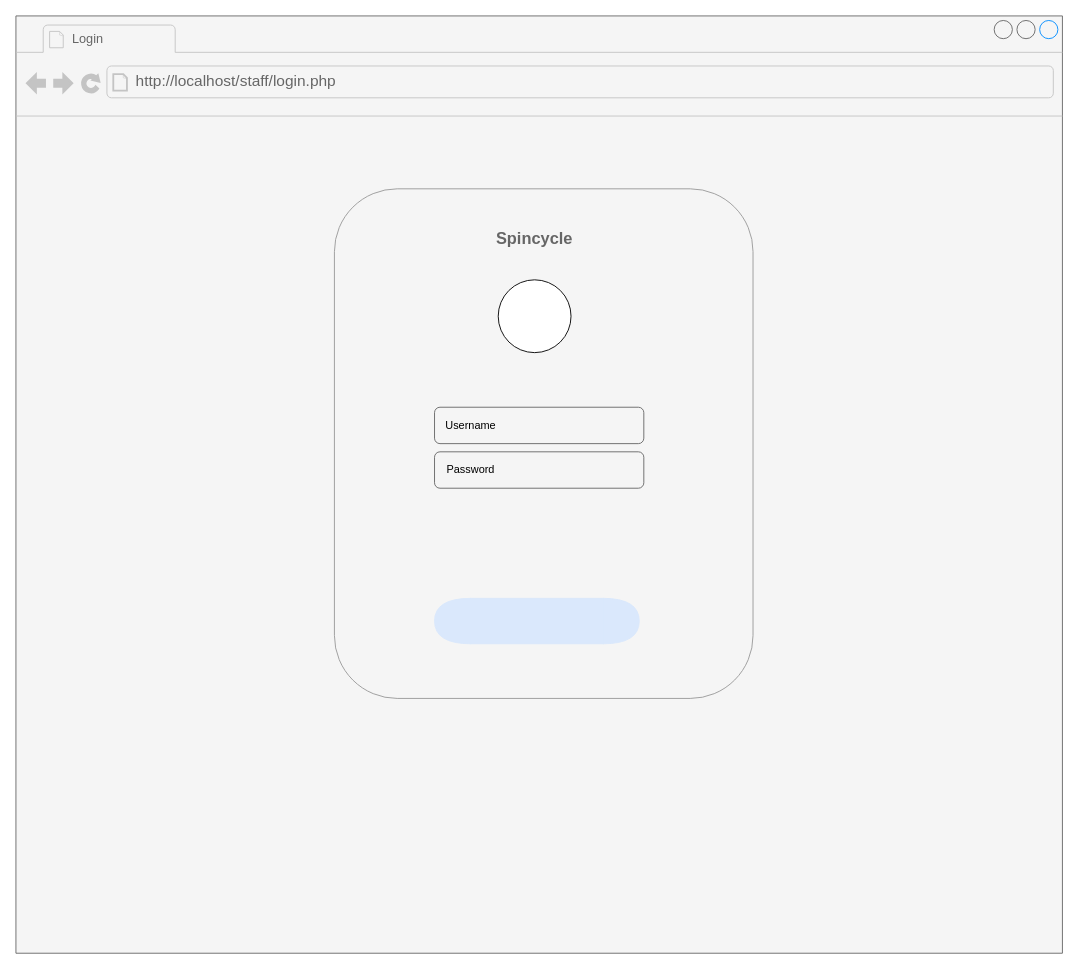
This 1078x969 diagram has some shape labels left out. The centre of each missing label's shape, as x and y in pixels:
"profile picture" belongs at [534,316].
"Register" belongs at [536,620].
